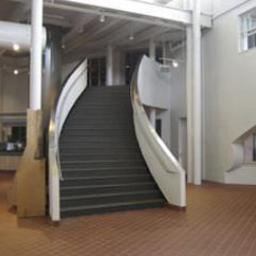Escaleras: (49, 56, 181, 217)
